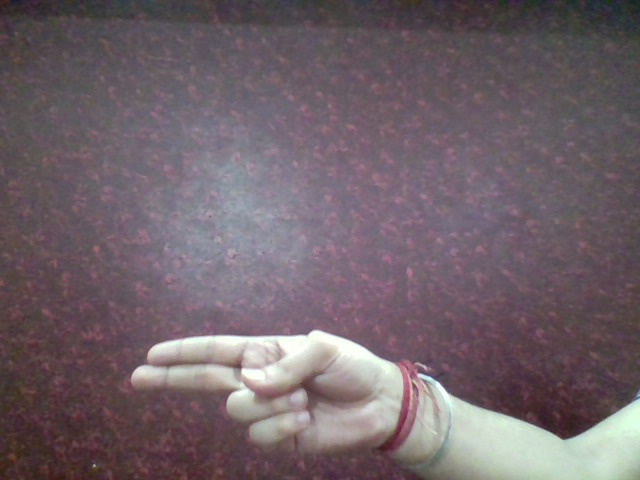h: (119, 318, 389, 465)
